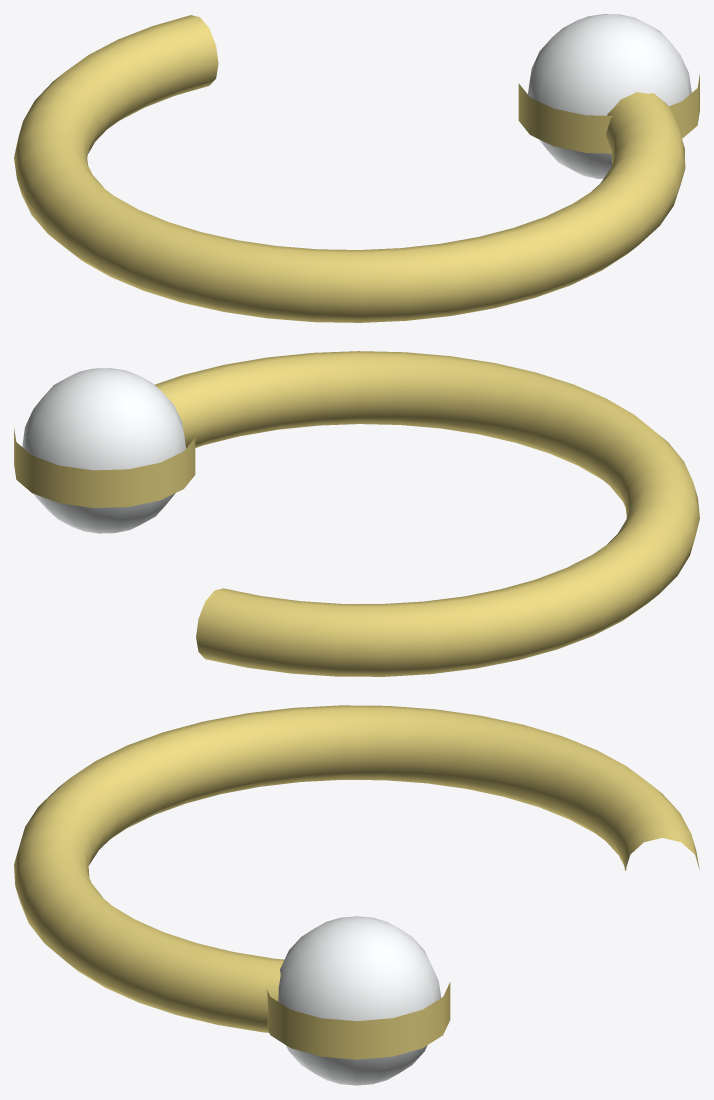
The model's file is nose-ring.glb.
3 renders of one model, top to bottom at view 1: azimuth 30°, elevation 25°; view 2: azimuth 150°, elevation 25°; view 3: azimuth 270°, elevation 25°, orthographic. The views are drawn at different scales.
Parts seen in each view (by area): view 1: nose_hoop_metal, nose_diamond_stone; view 2: nose_hoop_metal, nose_diamond_stone; view 3: nose_hoop_metal, nose_diamond_stone.
Part boxes in pixels (left/top/right/bottom): nose_hoop_metal: left=14, top=15, right=699, bottom=322; nose_diamond_stone: left=528, top=14, right=691, bottom=178; nose_hoop_metal: left=14, top=351, right=699, bottom=676; nose_diamond_stone: left=22, top=368, right=186, bottom=533; nose_hoop_metal: left=14, top=705, right=699, bottom=1059; nose_diamond_stone: left=278, top=916, right=441, bottom=1085.
Bounding box in the file's own units: 0.4368 × 0.1 × 0.4038.
